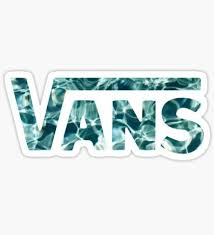vans: (9, 77, 204, 154)
